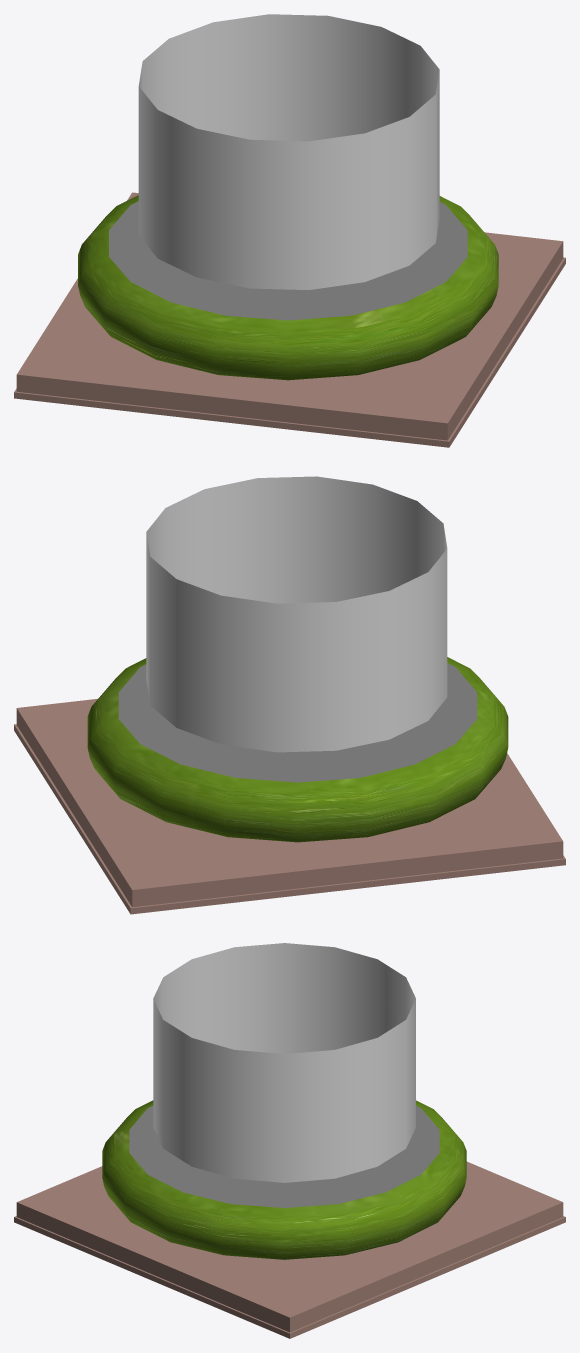
File: dizuo2.fbx
3 renders of one model, top to bottom at view 1: azimuth 30°, elevation 25°; view 2: azimuth 150°, elevation 25°; view 3: azimuth 270°, elevation 25°, orthographic. The views are drawn at different scales.
Parts seen in each view (by area): view 1: Cube001, Cylinder003; view 2: Cube001, Cylinder003; view 3: Cube001, Cylinder003.
Boxes of the visible parts, x1,y1,x2,y2 form: Cube001: (14,192,565,447); Cylinder003: (138,14,439,289); Cube001: (14,657,565,914); Cylinder003: (146,476,447,752); Cube001: (14,1100,565,1338); Cylinder003: (153,943,415,1182).
Bounding box in the file's own units: 482 × 214 × 482.
